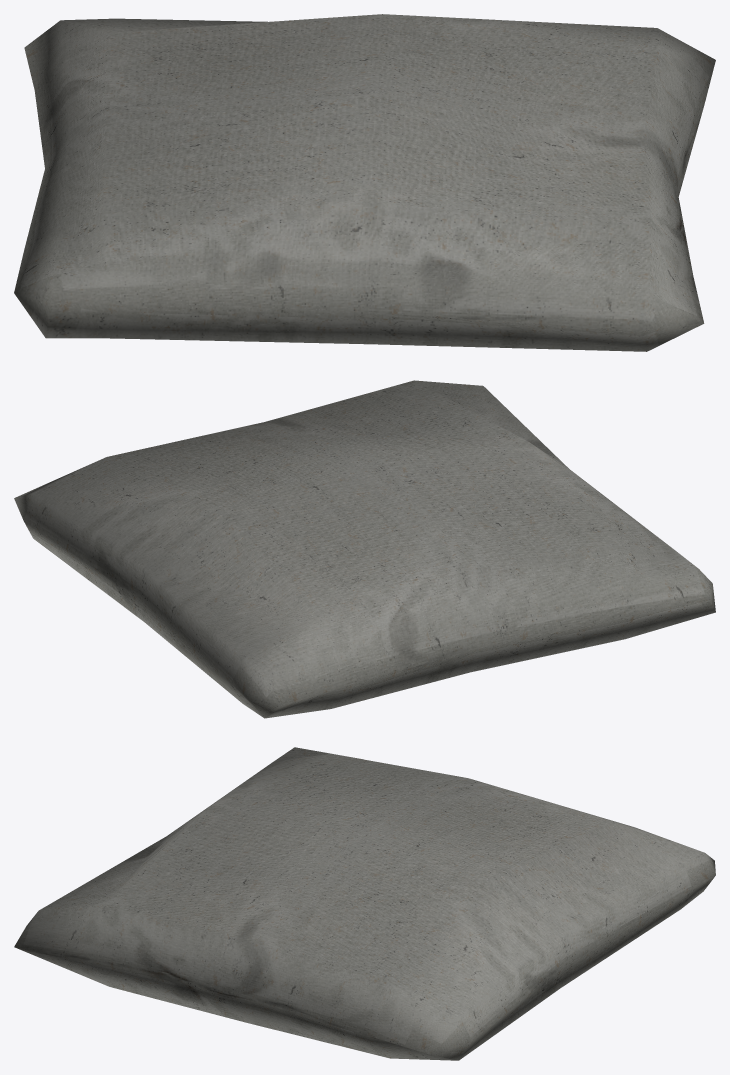
Rendered from подушка.fbx.
The picture shows the model from 3 angles, top to bottom: view 1: azimuth 30°, elevation 25°; view 2: azimuth 150°, elevation 25°; view 3: azimuth 270°, elevation 25°; orthographic projection. The views are drawn at different scales.
Visible parts, largest first — view 1: Pillow.001; view 2: Pillow.001; view 3: Pillow.001.
Boxes of the visible parts, x1=… form: Pillow.001: x1=14, y1=14, x2=715, y2=351; Pillow.001: x1=14, y1=380, x2=715, y2=718; Pillow.001: x1=14, y1=747, x2=715, y2=1060.
Bounding box in the file's own units: 84.55 × 16.52 × 85.37.
1 material, 1 textured.
